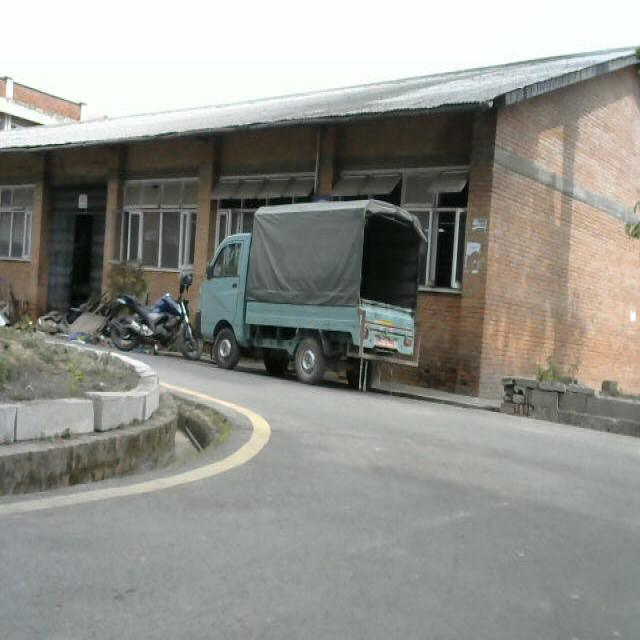Bike: (100, 274, 219, 350)
Buildings: (19, 106, 584, 258)
Road: (0, 390, 640, 640)
Vehicle: (197, 197, 454, 387)
